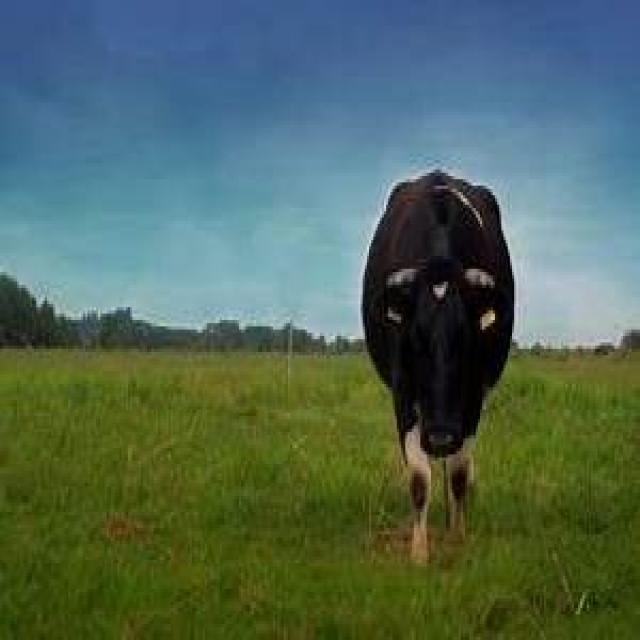cow: (358, 170, 516, 566)
